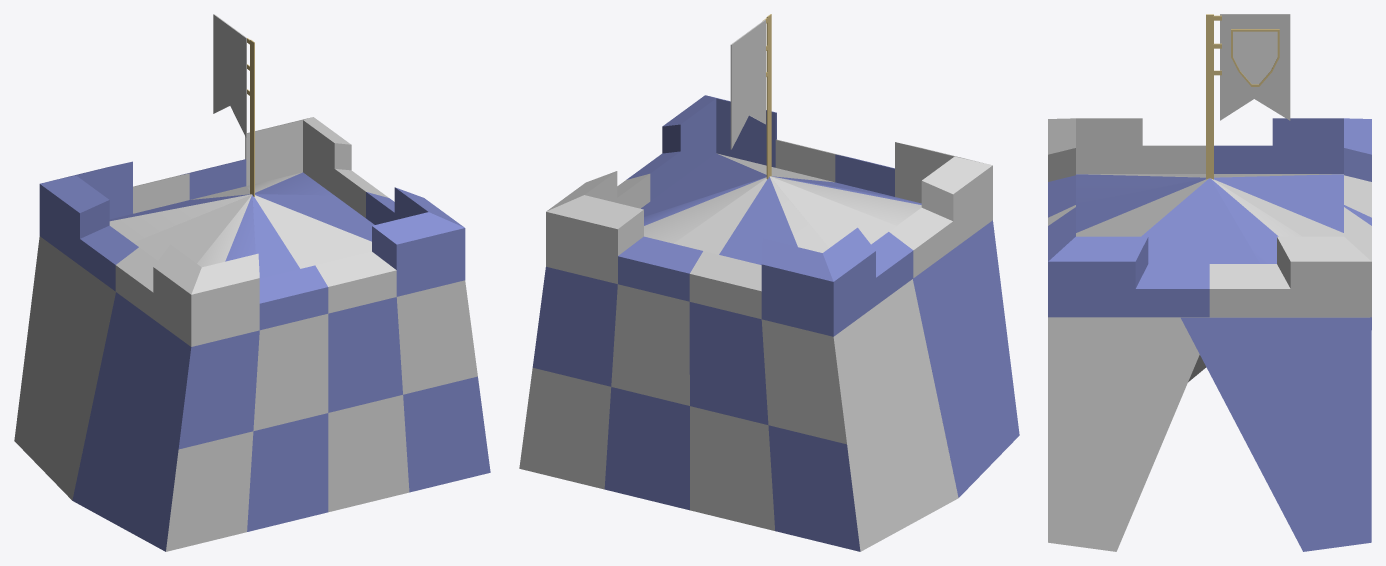
The model's file is shield_tent_02.fbx.
The picture shows the model from 3 angles, left to right: view 1: azimuth 30°, elevation 25°; view 2: azimuth 150°, elevation 25°; view 3: azimuth 270°, elevation 25°; orthographic projection. The views are drawn at different scales.
Parts seen in each view (by area): view 1: pCube151, pCube163; view 2: pCube151, pCube163; view 3: pCube151, pCube163.
Boxes of the visible parts, x1,y1,x2,y2 form: pCube151: [14, 117, 490, 551]; pCube163: [213, 14, 254, 196]; pCube151: [519, 95, 1019, 551]; pCube163: [730, 14, 771, 179]; pCube151: [1048, 118, 1371, 551]; pCube163: [1206, 14, 1290, 179].
Size of the model in its own units: 1.9 by 2.09 by 1.38.
